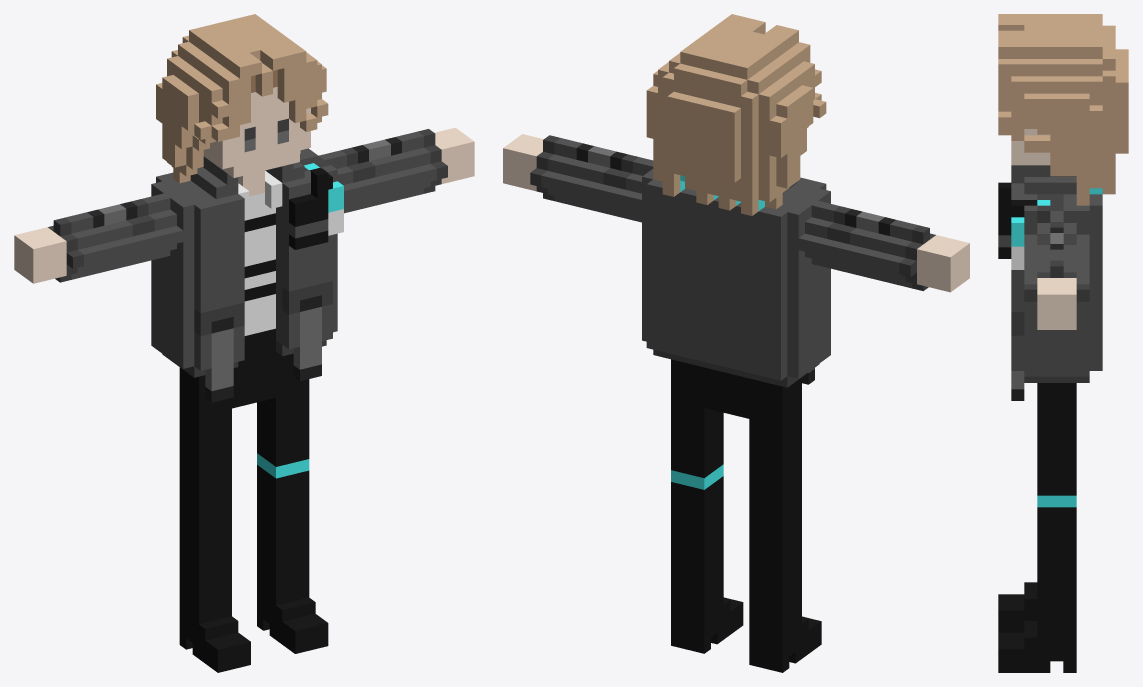
File: character modeling.obj
The picture shows the model from 3 angles, left to right: view 1: azimuth 30°, elevation 25°; view 2: azimuth 150°, elevation 25°; view 3: azimuth 270°, elevation 25°; orthographic projection. The views are drawn at different scales.
Bounding box in the file's own units: 4 × 5.2 × 1.
Materials: 1 (1 with a texture image).
